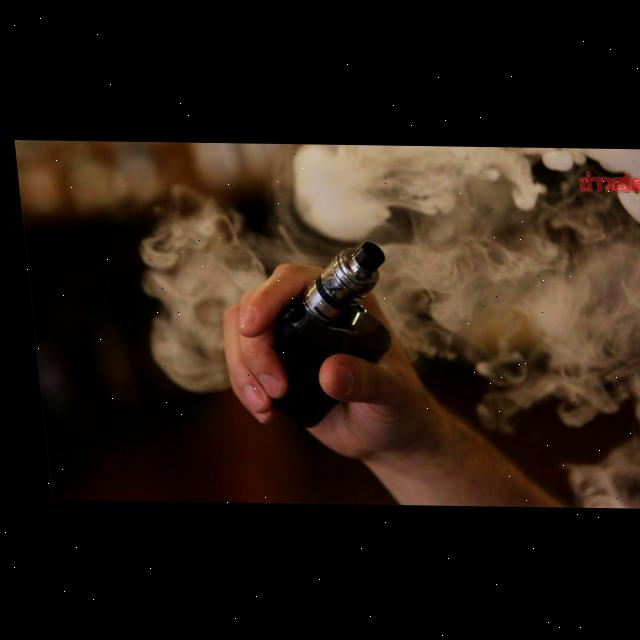vape: (246, 237, 396, 428)
